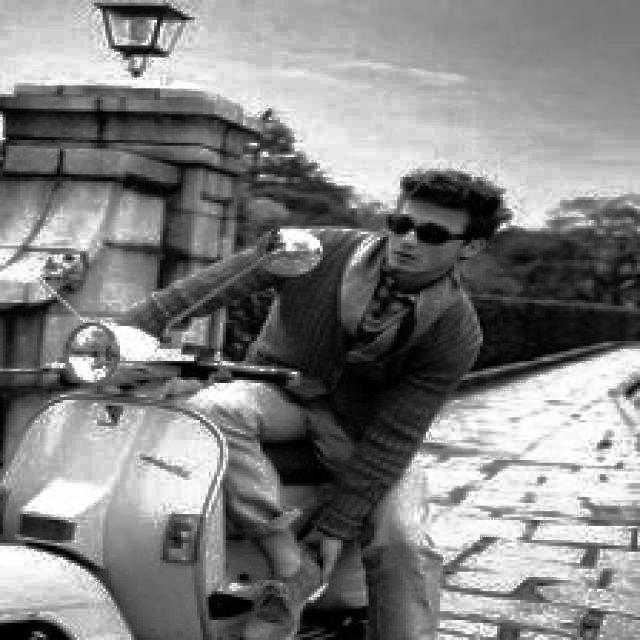Bike: (12, 337, 250, 639)
